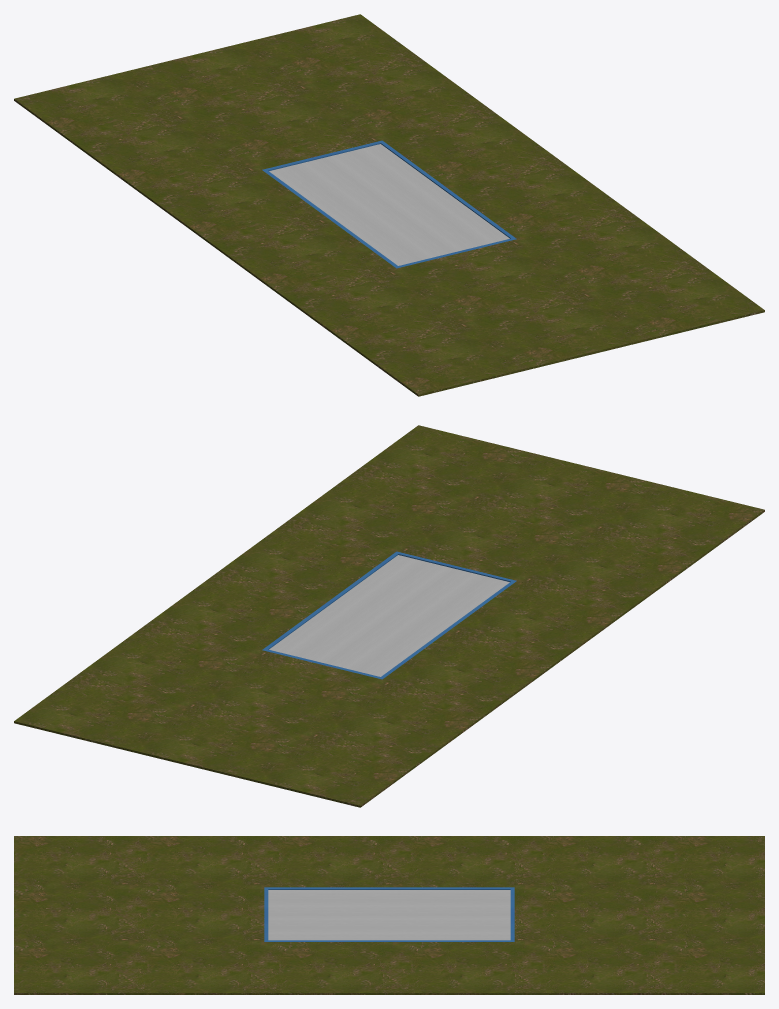
The model's file is arena.glb.
3 views of the same model, one above another, from view 1: azimuth 30°, elevation 25°; view 2: azimuth 150°, elevation 25°; view 3: azimuth 270°, elevation 25° (orthographic). The views are drawn at different scales.
Visible parts, largest first — view 1: FrontOutside_15, BackOutside_14, RightOutside_13, LeftOutside_12, RoofLeft_37, RoofRight_38, LeftWall_1; view 2: BackOutside_14, FrontOutside_15, RightOutside_13, LeftOutside_12, RoofLeft_37, RoofRight_38, LeftWall_1; view 3: BackOutside_14, FrontOutside_15, LeftOutside_12, RightOutside_13, RoofLeft_37, RoofRight_38, RightWall_2, LeftWall_1.
Boxes of the visible parts, x1=… form: FrontOutside_15: x1=283, y1=211, x2=764, y2=396; BackOutside_14: x1=14, y1=14, x2=494, y2=198; RightOutside_13: x1=148, y1=170, x2=396, y2=297; LeftOutside_12: x1=382, y1=113, x2=629, y2=238; RoofLeft_37: x1=325, y1=144, x2=509, y2=252; RoofRight_38: x1=269, y1=157, x2=453, y2=265; LeftWall_1: x1=380, y1=142, x2=514, y2=238; BackOutside_14: x1=14, y1=622, x2=495, y2=807; FrontOutside_15: x1=284, y1=425, x2=764, y2=609; RightOutside_13: x1=382, y1=581, x2=630, y2=708; LeftOutside_12: x1=149, y1=524, x2=396, y2=649; RoofLeft_37: x1=269, y1=555, x2=453, y2=663; RoofRight_38: x1=325, y1=568, x2=509, y2=676; LeftWall_1: x1=264, y1=553, x2=398, y2=649; BackOutside_14: x1=514, y1=836, x2=764, y2=994; FrontOutside_15: x1=14, y1=836, x2=264, y2=994; LeftOutside_12: x1=264, y1=942, x2=514, y2=994; RightOutside_13: x1=264, y1=836, x2=514, y2=887; RoofLeft_37: x1=268, y1=915, x2=510, y2=940; RoofRight_38: x1=268, y1=890, x2=510, y2=915; RightWall_2: x1=268, y1=887, x2=510, y2=889; LeftWall_1: x1=268, y1=940, x2=510, y2=941.
Size of the model in its own units: 92 by 11 by 186.
Materials: 20 (14 with a texture image).
